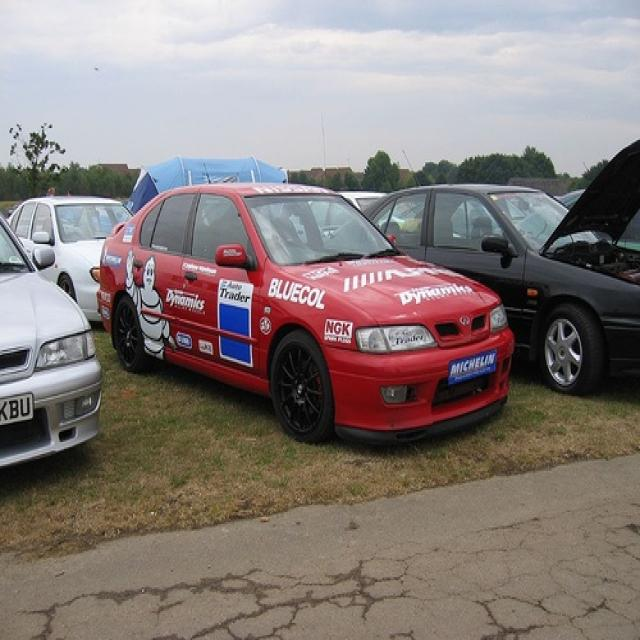car: (99, 184, 512, 446), (361, 138, 637, 396), (0, 213, 100, 473), (9, 196, 133, 323)
